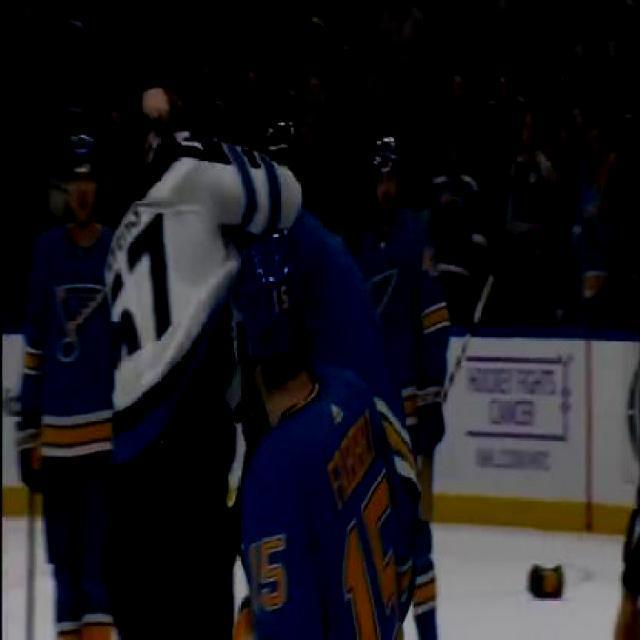fight: (110, 88, 364, 506)
